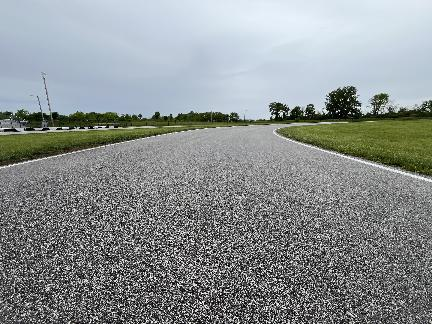Grass: (278, 120, 431, 174), (0, 127, 202, 164)
Lane: (0, 125, 431, 323)
